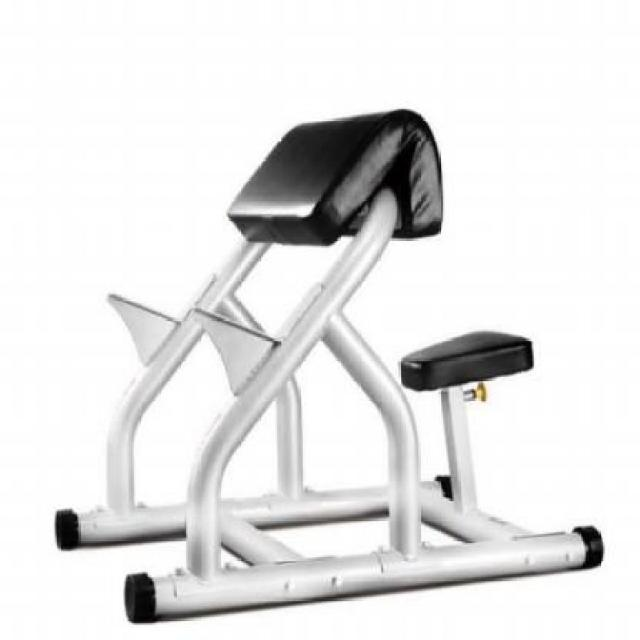arm curl machine: (57, 109, 606, 626)
